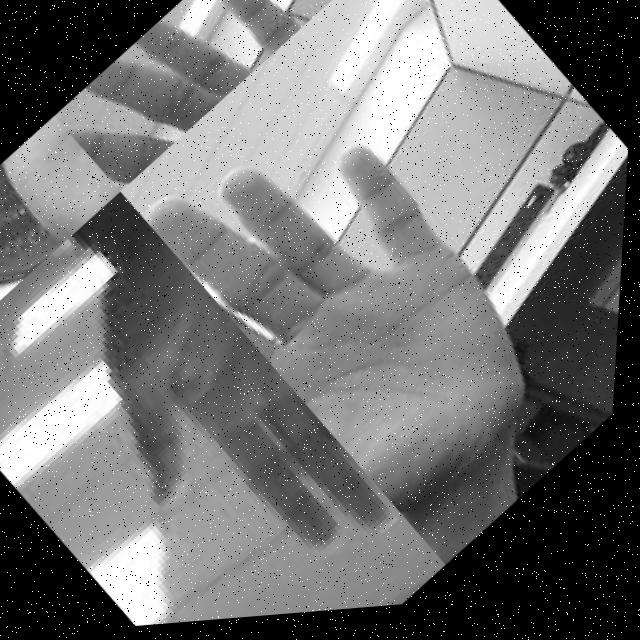hand: (125, 45, 597, 547), (7, 213, 424, 638), (53, 0, 325, 198), (0, 112, 126, 257)
